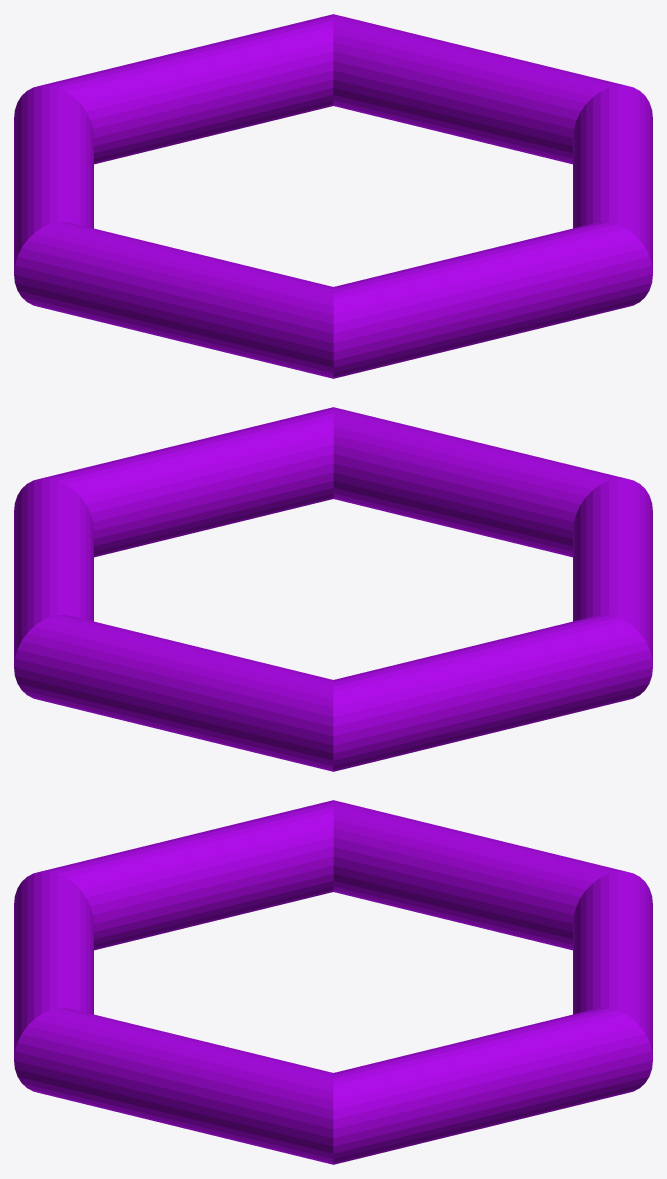
File: ring4.gltf
3 views of the same model, one above another, from view 1: azimuth 30°, elevation 25°; view 2: azimuth 150°, elevation 25°; view 3: azimuth 270°, elevation 25° (orthographic).
Parts seen in each view (by area): view 1: Torus.005; view 2: Torus.005; view 3: Torus.005.
Boxes of the visible parts, x1,y1,x2,y2 form: Torus.005: [14, 14, 652, 378]; Torus.005: [14, 407, 652, 771]; Torus.005: [14, 800, 652, 1164].
Size of the model in its own units: 8 by 0.9945 by 6.93.
